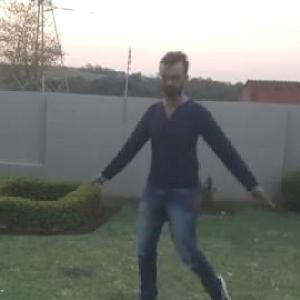land: (109, 64, 254, 299)
